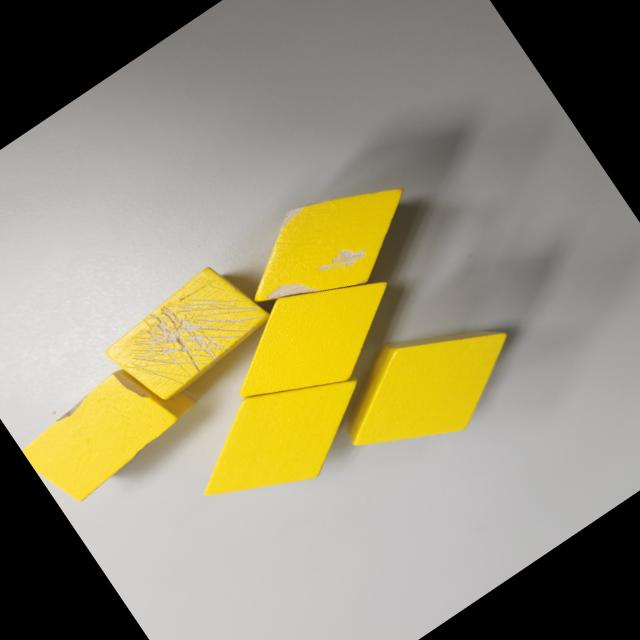broken: (218, 150, 436, 344), (15, 344, 207, 512), (92, 252, 279, 419)
yellow: (316, 283, 540, 488), (170, 338, 392, 536), (203, 242, 421, 438)
